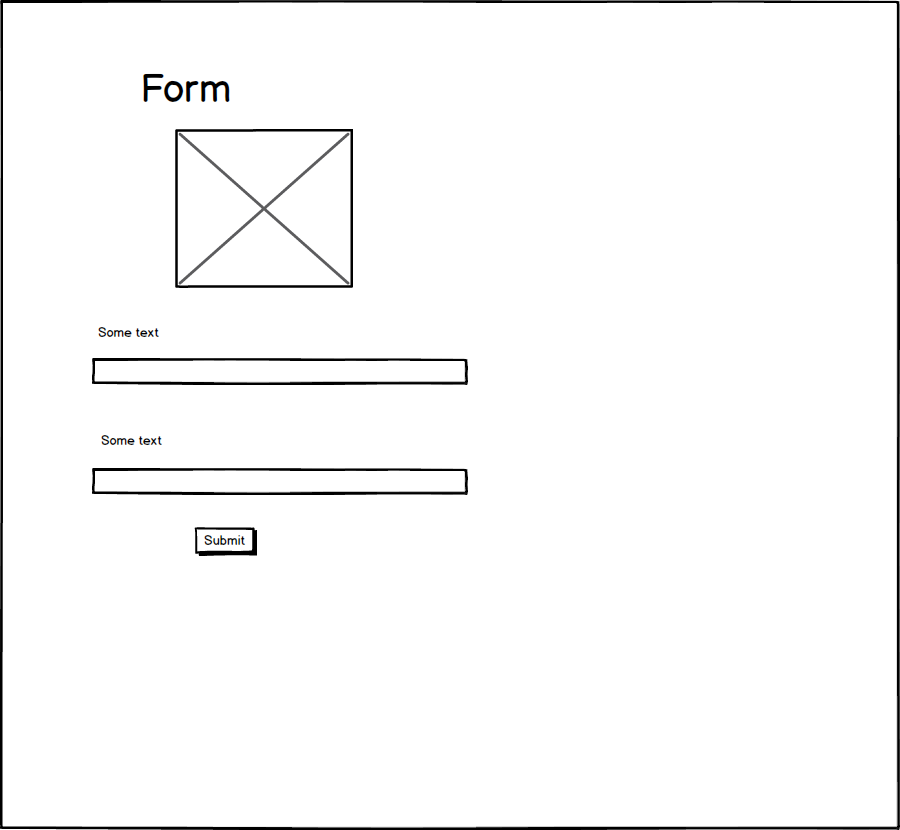button: (190, 521, 263, 563)
h1: (132, 54, 237, 114)
image: (171, 124, 356, 292)
input: (84, 353, 479, 391), (84, 463, 483, 500)
label: (88, 319, 165, 345), (94, 430, 168, 449)
